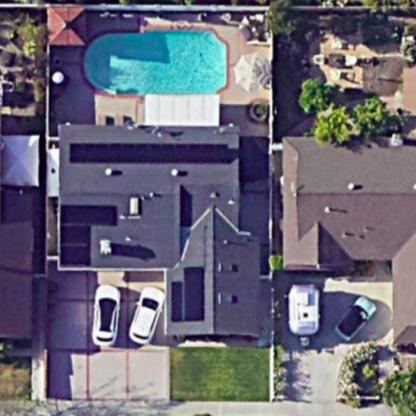car: (88, 277, 121, 352), (128, 285, 165, 351), (331, 291, 376, 342)
solar_panel: (67, 136, 232, 173), (55, 200, 127, 269), (166, 259, 212, 325)
swimming_pool: (73, 24, 234, 104)
